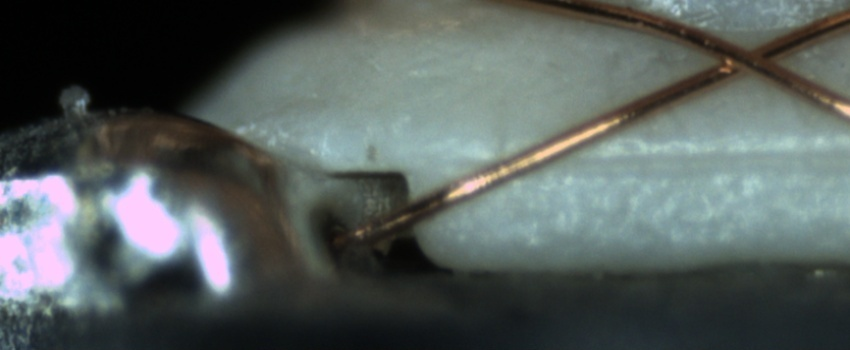CL: (696, 27, 800, 86)
DL: (496, 127, 849, 191)
